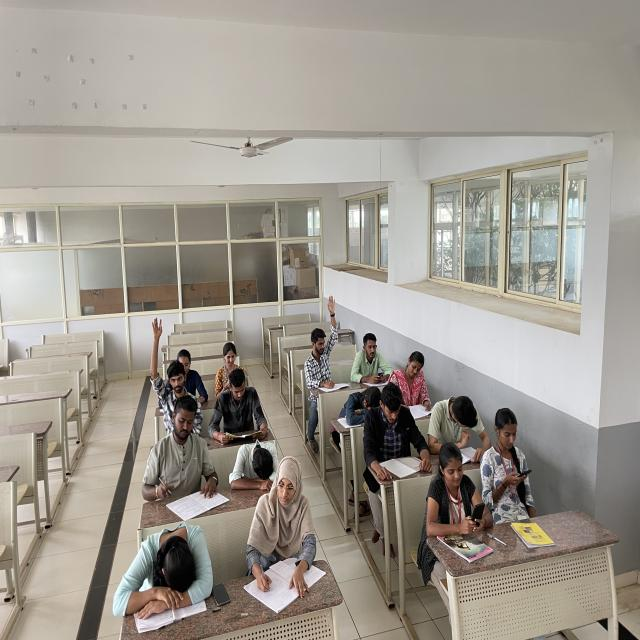Hand Rising: (144, 318, 196, 418), (300, 295, 347, 394)
Reading: (139, 394, 228, 518), (359, 381, 430, 478), (208, 366, 270, 443), (425, 392, 491, 461)
Sleeping: (113, 519, 228, 635), (224, 436, 280, 504), (337, 385, 382, 429)
Using Phone: (423, 440, 495, 545), (481, 407, 540, 513), (348, 330, 395, 390), (209, 339, 239, 393)
Writing: (248, 455, 323, 621), (392, 349, 435, 416)
